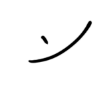n: (25, 18, 93, 65)
